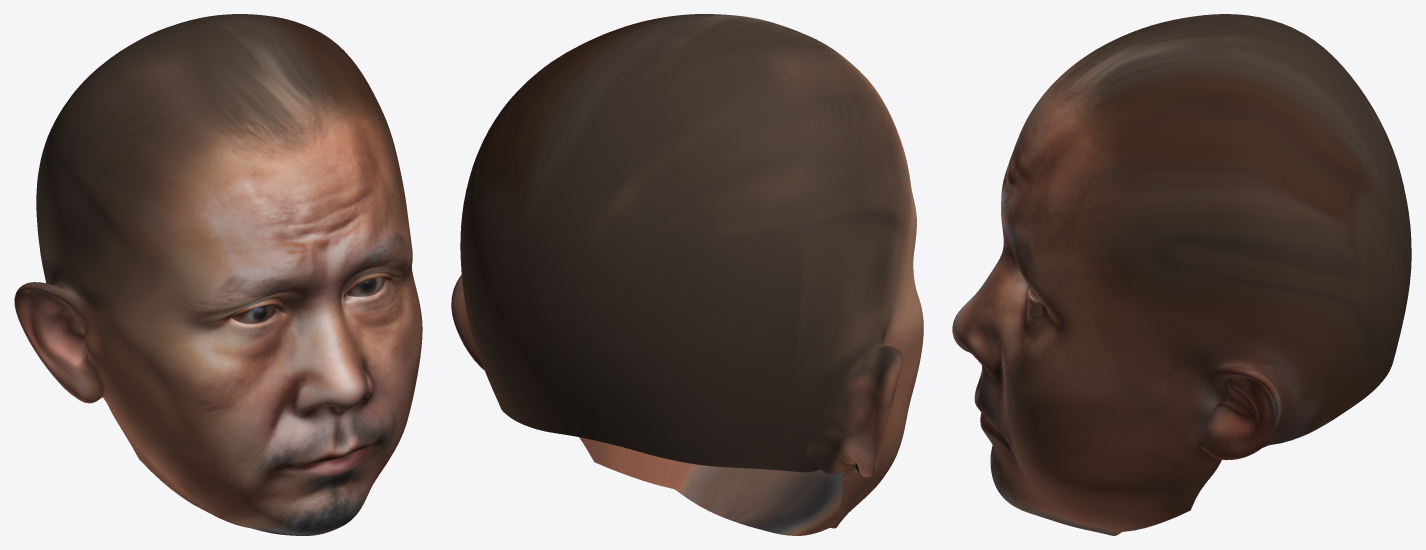
3 renders of one model, left to right at view 1: azimuth 30°, elevation 25°; view 2: azimuth 150°, elevation 25°; view 3: azimuth 270°, elevation 25°, orthographic. The views are drawn at different scales.
Parts seen in each view (by area): view 1: FBHead; view 2: FBHead; view 3: FBHead.
Part boxes in pixels (x1=…): FBHead: x1=14, y1=14, x2=422, y2=535; FBHead: x1=451, y1=14, x2=923, y2=535; FBHead: x1=952, y1=14, x2=1411, y2=535.
Size of the model in its own units: 1.6 by 1.87 by 1.6.
1 material, 1 textured.
